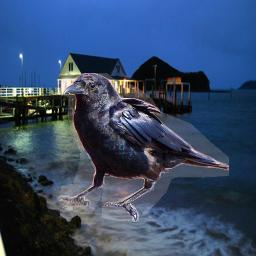Crow: (59, 73, 229, 222)
